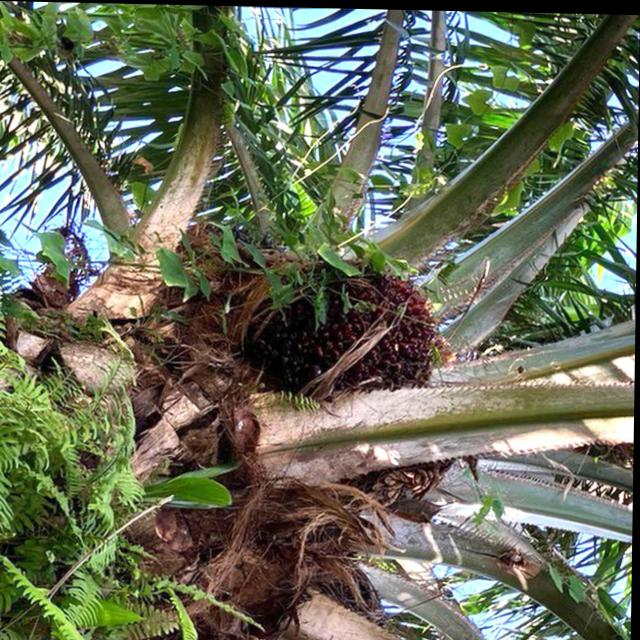ripe: (258, 268, 437, 379)
